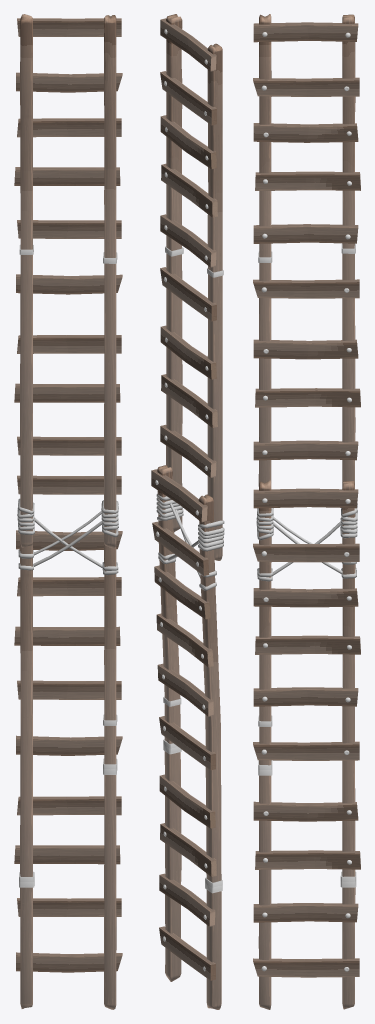
File: SM_Ladder_02.fbx
The picture shows the model from 3 angles, left to right: view 1: azimuth 90°, elevation 25°; view 2: azimuth 210°, elevation 25°; view 3: azimuth 270°, elevation 25°; orthographic projection. The views are drawn at different scales.
Parts seen in each view (by area): view 1: SM_Ladder_02_LOD0; view 2: SM_Ladder_02_LOD0; view 3: SM_Ladder_02_LOD0.
Part boxes in pixels (box(x1,y1,x2,y2)): SM_Ladder_02_LOD0: box(14, 14, 122, 1009); SM_Ladder_02_LOD0: box(151, 14, 224, 1009); SM_Ladder_02_LOD0: box(253, 14, 360, 1009).
Bounding box in the file's own units: 24.31 × 88.81 × 900.
